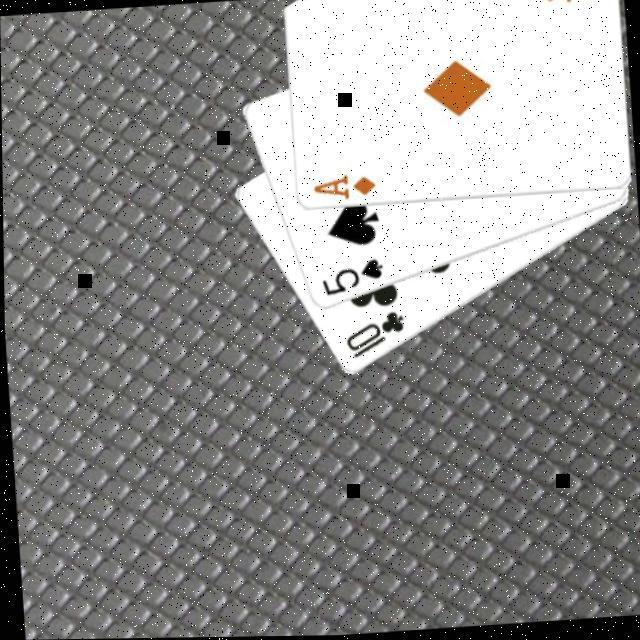10C: (341, 311, 411, 365)
5S: (318, 258, 389, 303)
AD: (311, 173, 380, 208), (537, 0, 606, 12)
